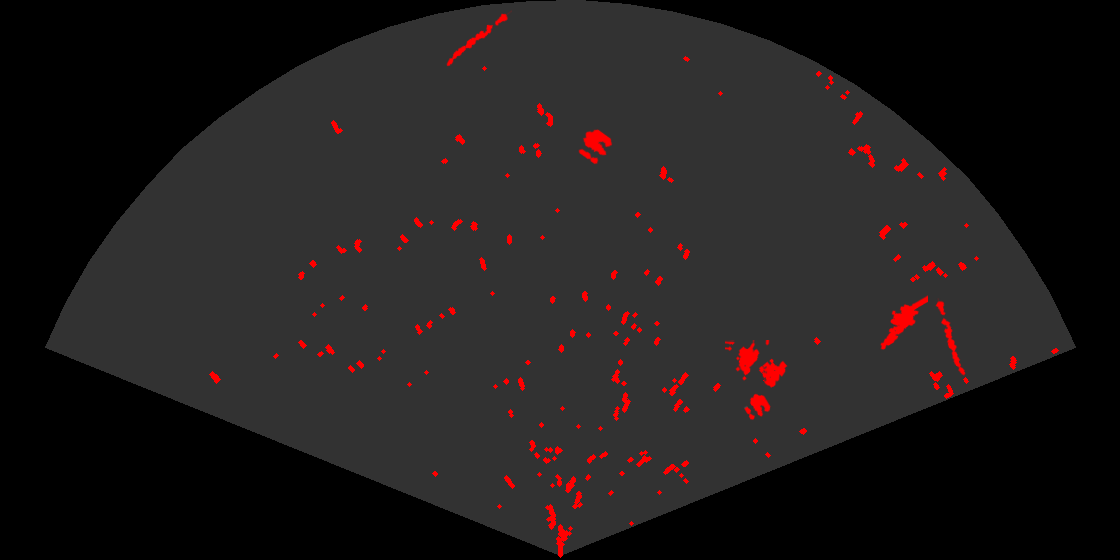ball: (577, 128, 614, 166), (743, 392, 772, 421)
cage: (725, 340, 789, 389)
chain: (445, 9, 512, 68), (934, 298, 967, 378)
frogman: (879, 294, 928, 351)
